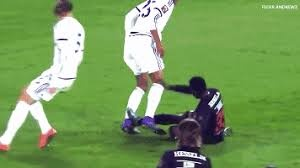falling: (127, 70, 235, 145)
